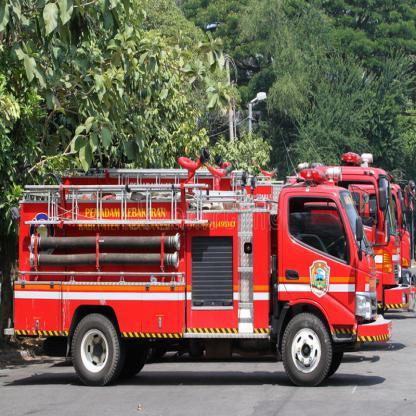fire-truck: (0, 135, 416, 416)
